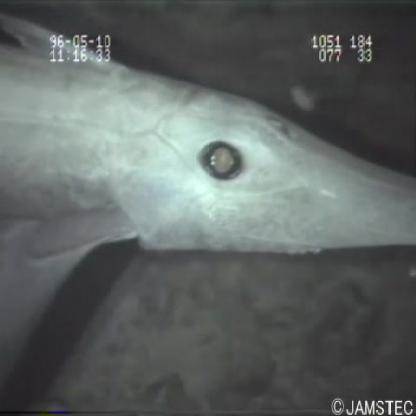Bio: (1, 11, 416, 311)
